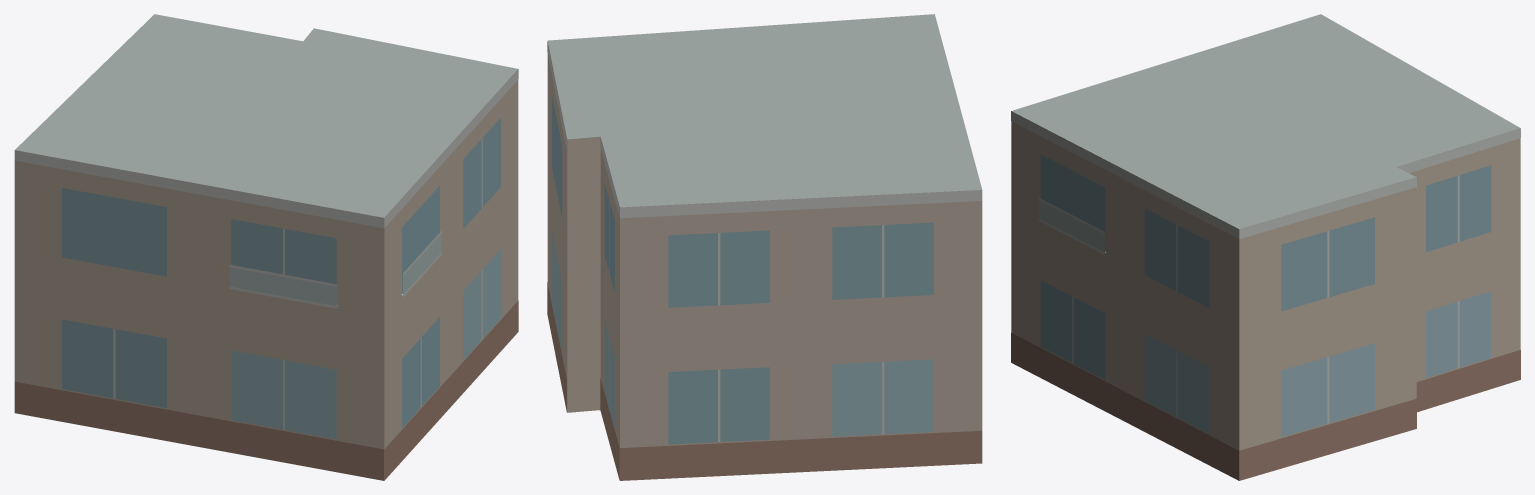
The model's file is survey-upis-32962739.glb.
3 renders of one model, left to right at view 1: azimuth 30°, elevation 25°; view 2: azimuth 150°, elevation 25°; view 3: azimuth 270°, elevation 25°, orthographic. The views are drawn at different scales.
Parts seen in each view (by area): view 1: survey-upis-32962739.tmp; view 2: survey-upis-32962739.tmp; view 3: survey-upis-32962739.tmp.
Boxes of the visible parts, left/top/right/bottom form: survey-upis-32962739.tmp: left=14, top=14, right=518, bottom=480; survey-upis-32962739.tmp: left=547, top=14, right=982, bottom=480; survey-upis-32962739.tmp: left=1011, top=14, right=1520, bottom=480.
Size of the model in its own units: 11.2 by 6.1 by 11.2.
